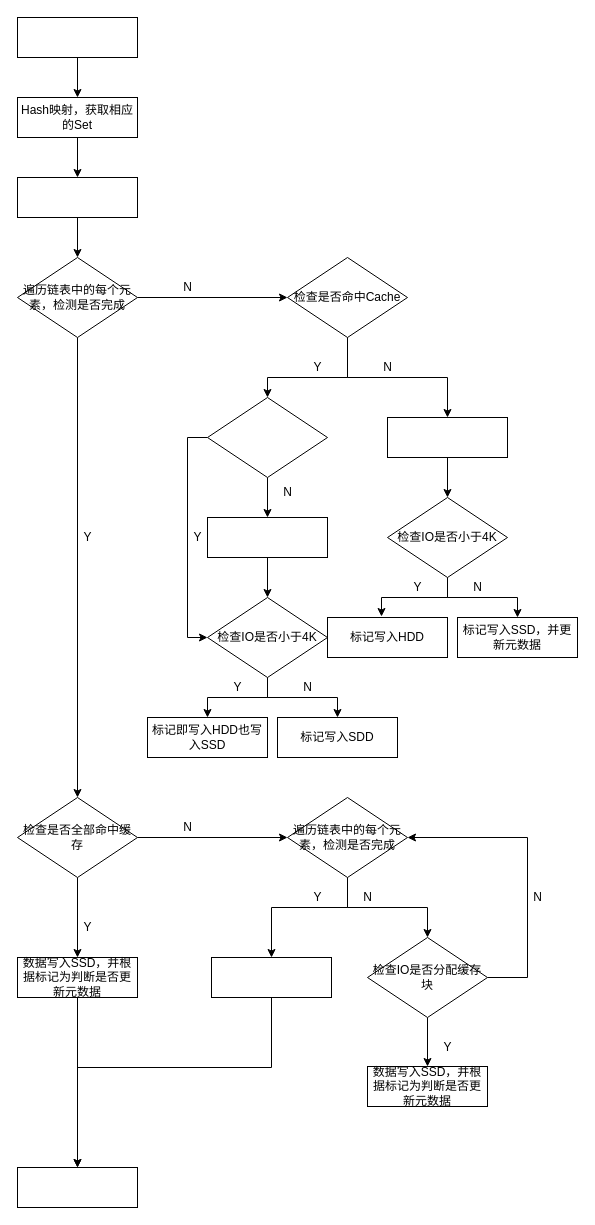
Some shapes in this 595 by 1225 pixel diagram are drawn without their labels. The shapes that lost their labels are listed below. From the top down, each one's centre as x and y in pixels, then its label:
At point 77,37: "写请求".
At point 77,197: "默认按照4K大小切分BIO，并存放至链表中".
At point 267,437: "检查是否是脏写命中".
At point 447,437: "查询空闲缓存块".
At point 267,537: "标记更新元数据".
At point 271,977: "数据写入HDD".
At point 77,1187: "写入IO完成".
